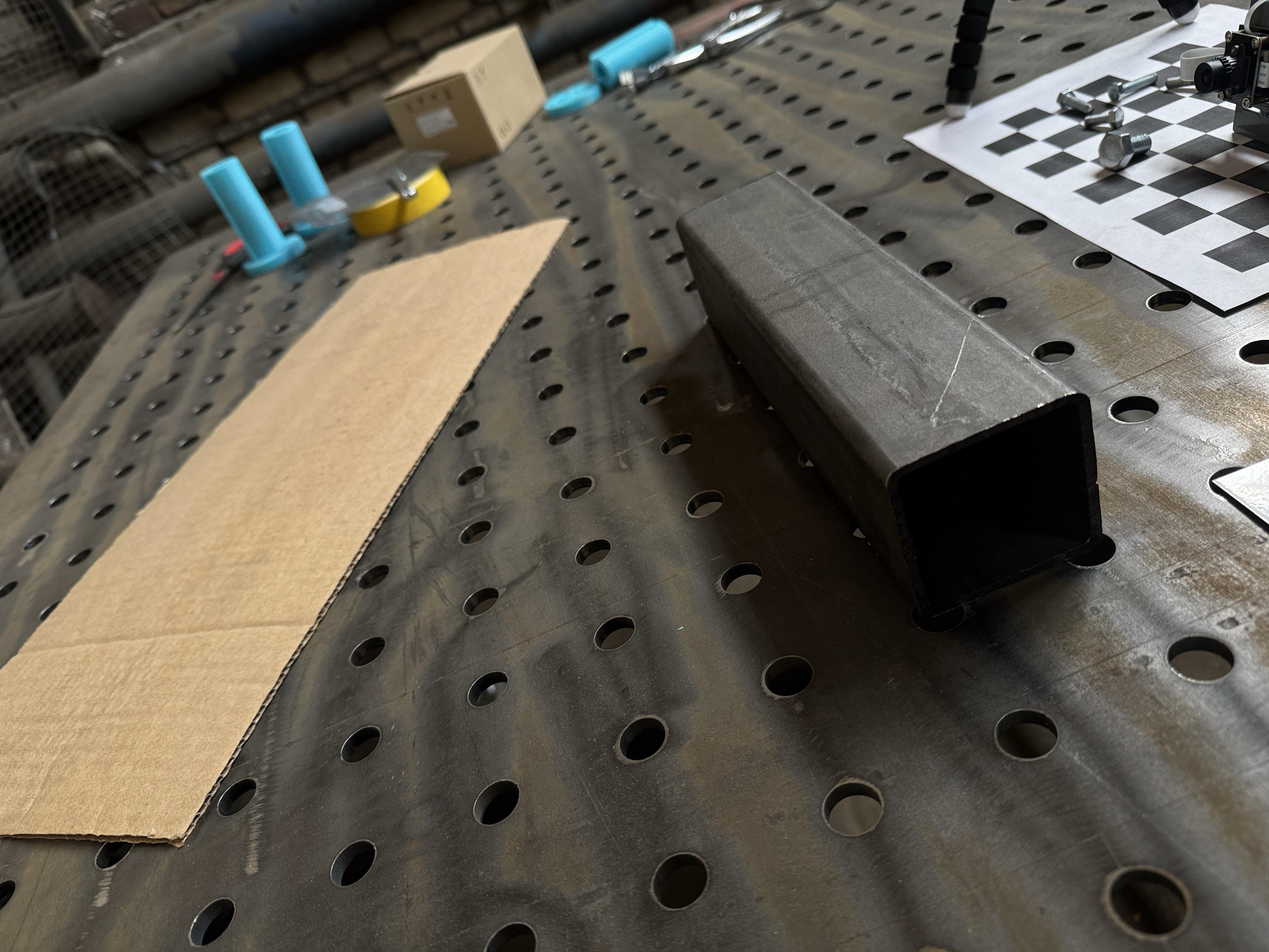detail: (677, 168, 1103, 619)
